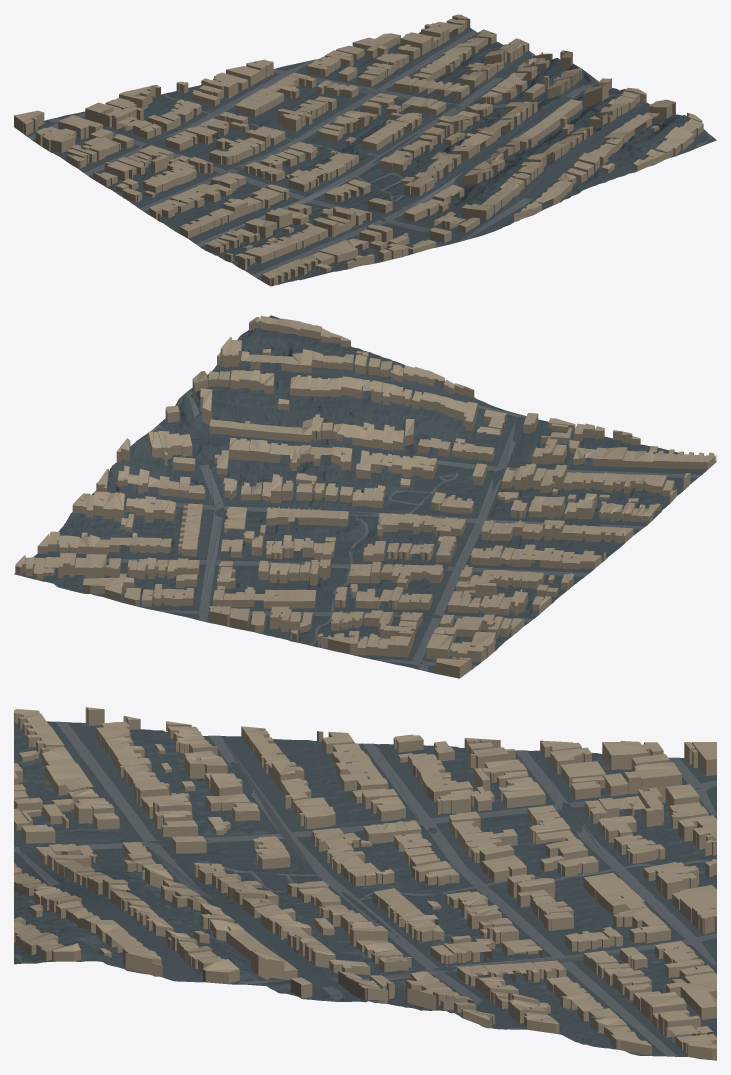
The model's file is epsg26910-1438-10870.lod0.glb.
3 views of the same model, one above another, from view 1: azimuth 30°, elevation 25°; view 2: azimuth 150°, elevation 25°; view 3: azimuth 270°, elevation 25° (orthographic). The views are drawn at different scales.
Visible parts, largest first — view 1: epsg26910-1438-10870-lod0; view 2: epsg26910-1438-10870-lod0; view 3: epsg26910-1438-10870-lod0.
Boxes of the visible parts, box(x1,y1,x2,y2) form: epsg26910-1438-10870-lod0: box(14, 14, 716, 286); epsg26910-1438-10870-lod0: box(14, 315, 716, 678); epsg26910-1438-10870-lod0: box(14, 707, 716, 1060).
Size of the model in its own units: 384 by 70.41 by 384.
